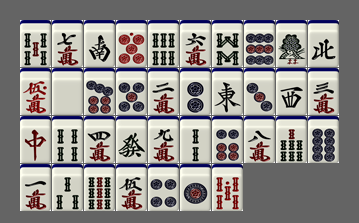0m: (20, 68, 51, 115)
0p: (116, 20, 147, 67)
0s: (212, 164, 243, 211)
1m: (20, 164, 51, 211)
1p: (180, 164, 211, 211)
1s: (276, 20, 307, 67)
1z: (212, 68, 243, 115)
2m: (148, 68, 179, 115)
2p: (180, 68, 211, 115)
2s: (180, 116, 211, 163)
2z: (84, 20, 115, 67)
3m: (308, 68, 339, 115)
3p: (244, 68, 275, 115)
3s: (52, 164, 83, 211)
3z: (276, 68, 307, 115)
4m: (84, 116, 115, 163)
4p: (148, 164, 179, 211)
4s: (52, 116, 83, 163)
4z: (308, 20, 339, 67)
5m: (116, 164, 147, 211)
5p: (116, 68, 147, 115)
5s: (20, 20, 51, 67)
5z: (52, 68, 83, 115)
6m: (180, 20, 211, 67)
6p: (212, 116, 243, 163)
6s: (148, 20, 179, 67)
6z: (116, 116, 147, 163)
7m: (52, 20, 83, 67)
7p: (84, 68, 115, 115)
7s: (276, 116, 307, 163)
7z: (20, 116, 51, 163)
8m: (244, 116, 275, 163)
8p: (308, 116, 339, 163)
8s: (212, 20, 243, 67)
9m: (148, 116, 179, 163)
9p: (244, 20, 275, 67)
9s: (84, 164, 115, 211)
